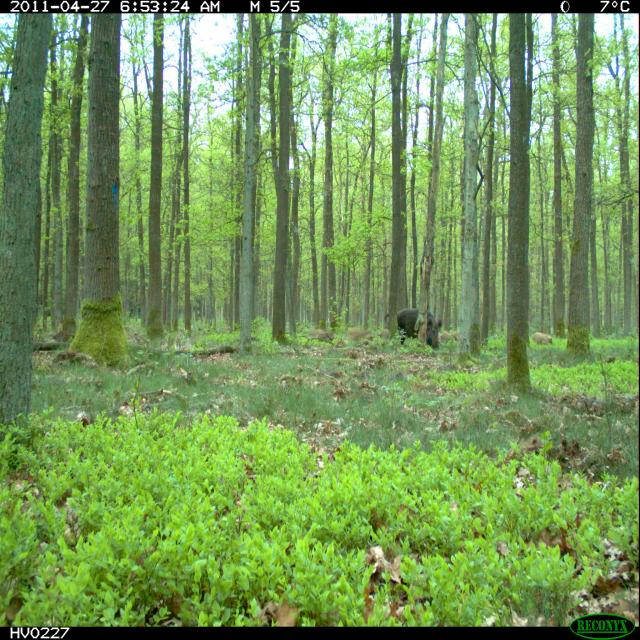boar: (380, 291, 454, 368)
